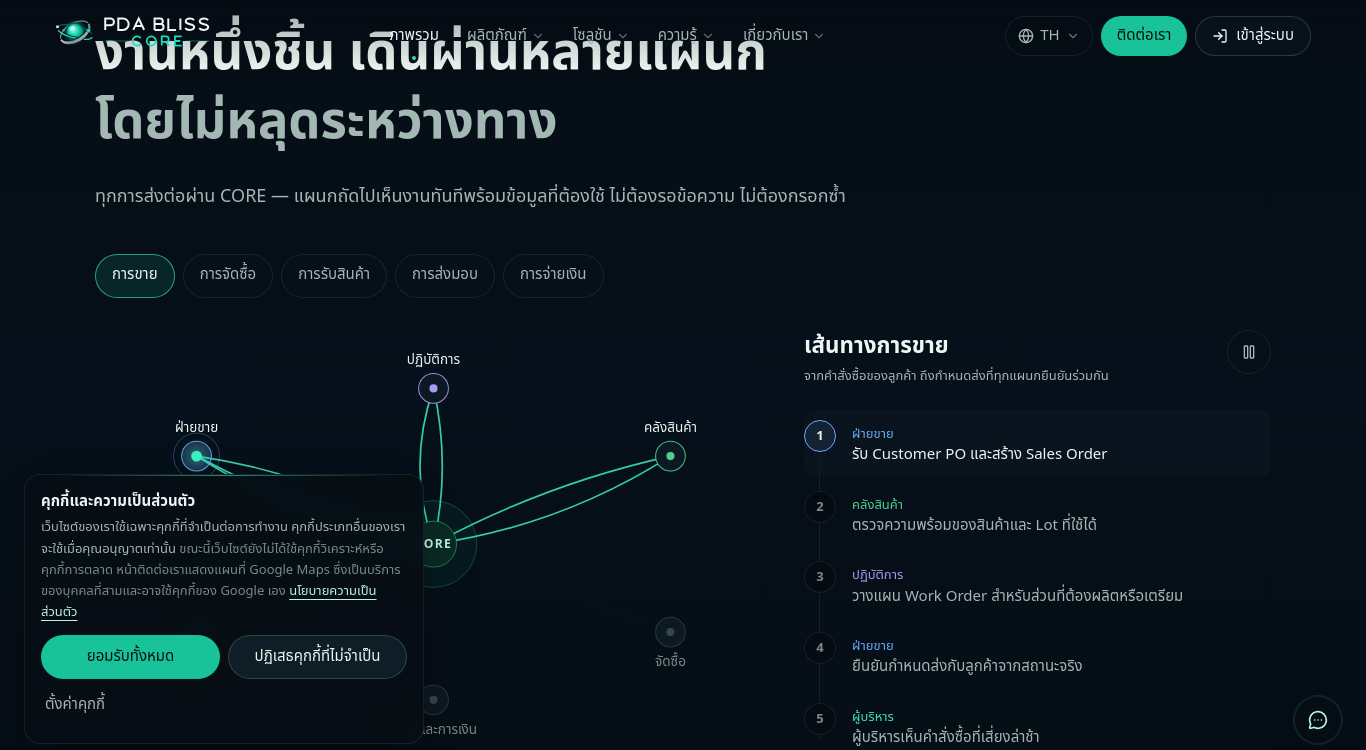
Test case: connected flow › switches between the five illustrative routes
(page scrolled)
Expected: the radio button labelled "การขาย" is checked, [95,254,175,298]
Click the radio button labelled "การจัดซื้อ": (228, 276) [183,254,273,298]
(page scrolled)
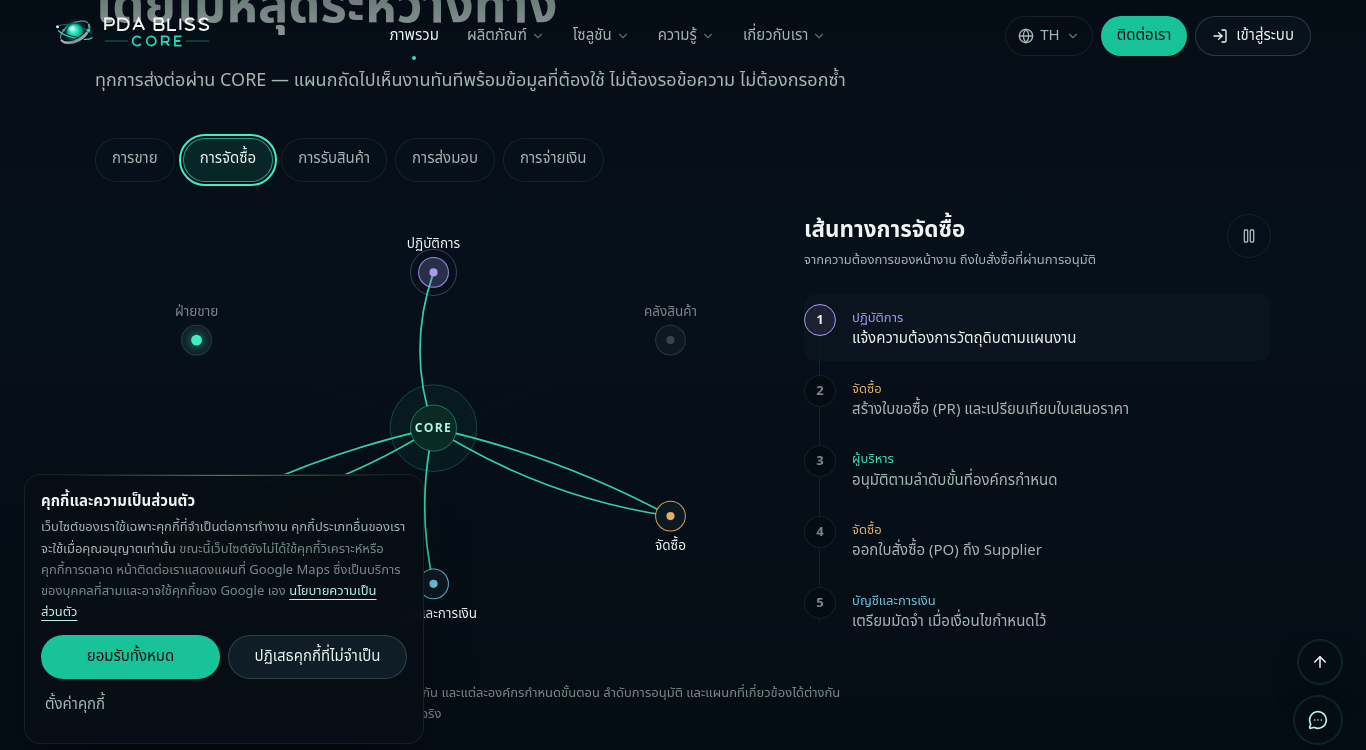
Now the list named "ขั้นตอนเส้นทางการจัดซื้อ" shows "ใบขอซื้อ (PR)", box [852,398,1129,421]
